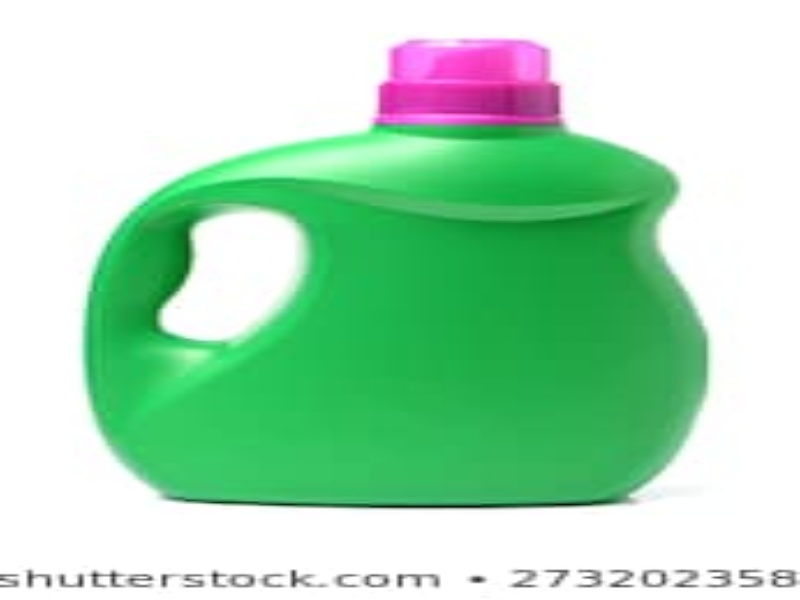detergent-bottle: (77, 32, 714, 518)
